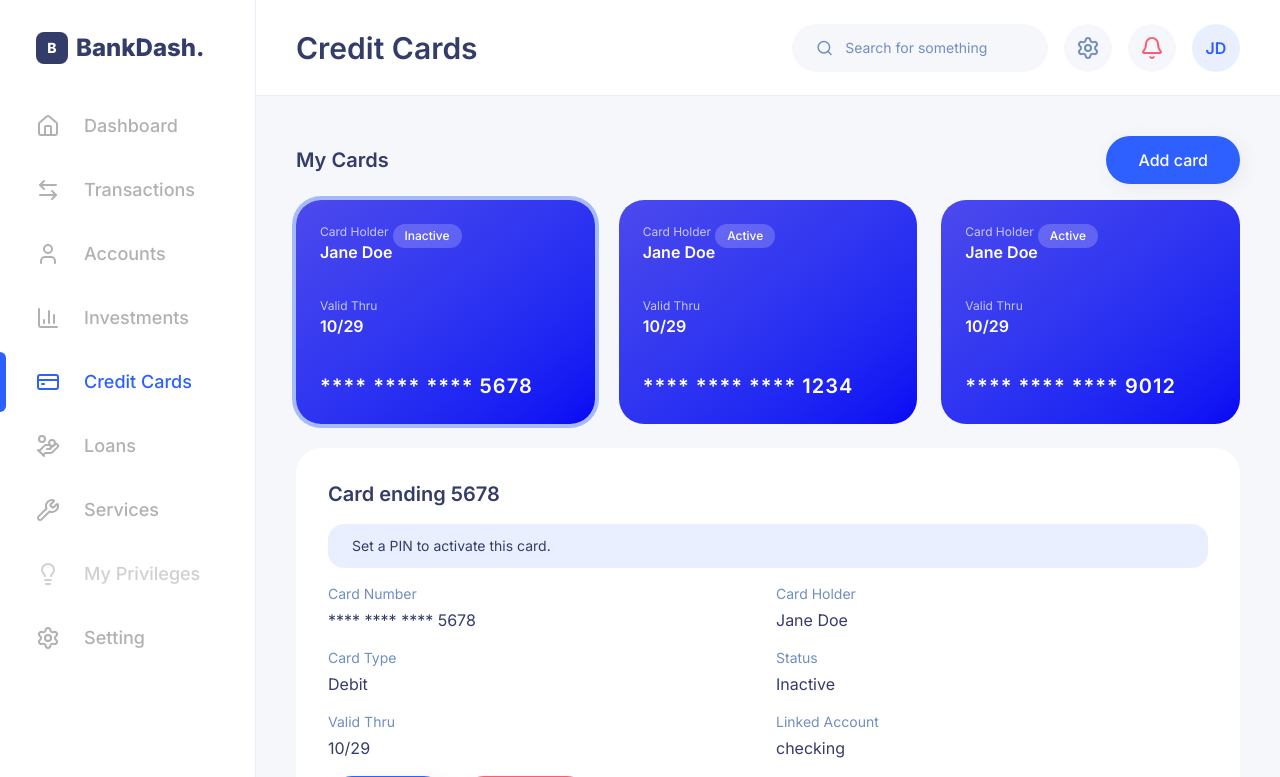
Scenario: Credit Cards › Block card › AC15: Cancel sends no request
Click the button with aria-label "Card ending 1234" at (677, 232), box 619,200 -> 917,424
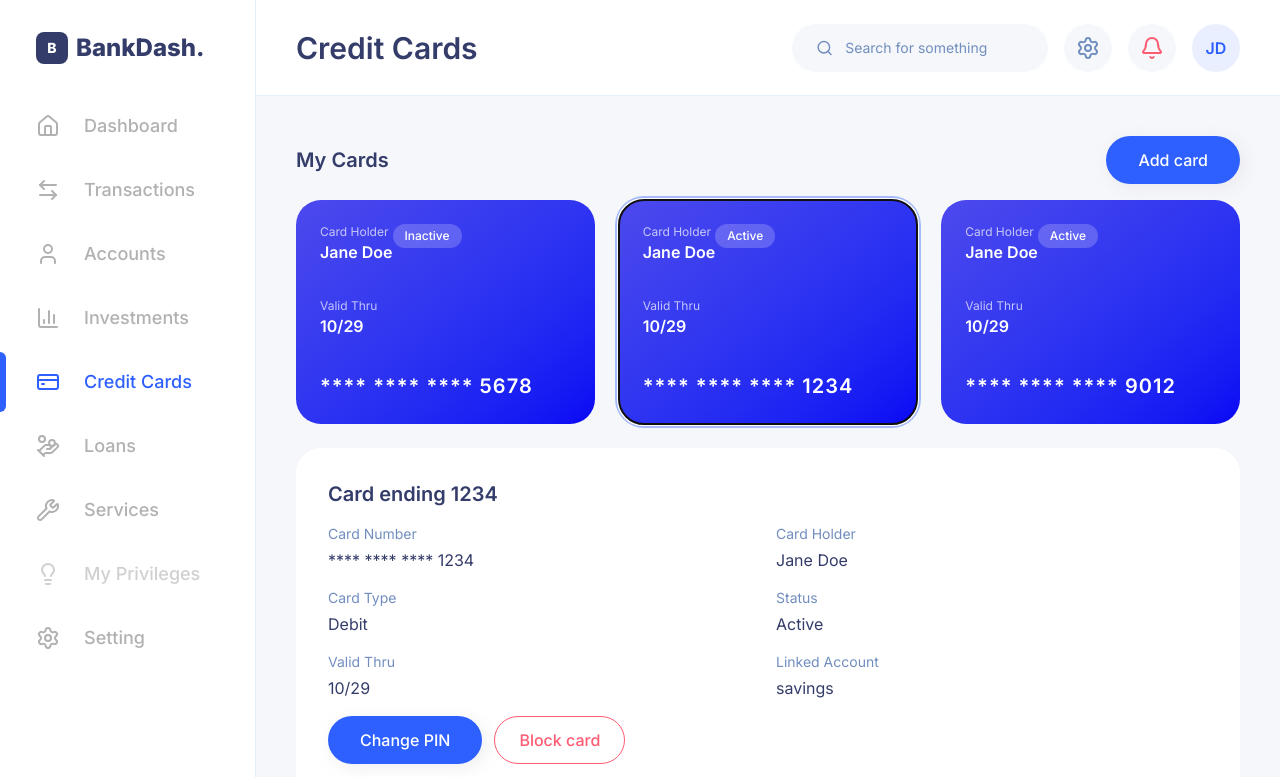
Click the button "Block card" at (560, 740), box 494,716 -> 625,764
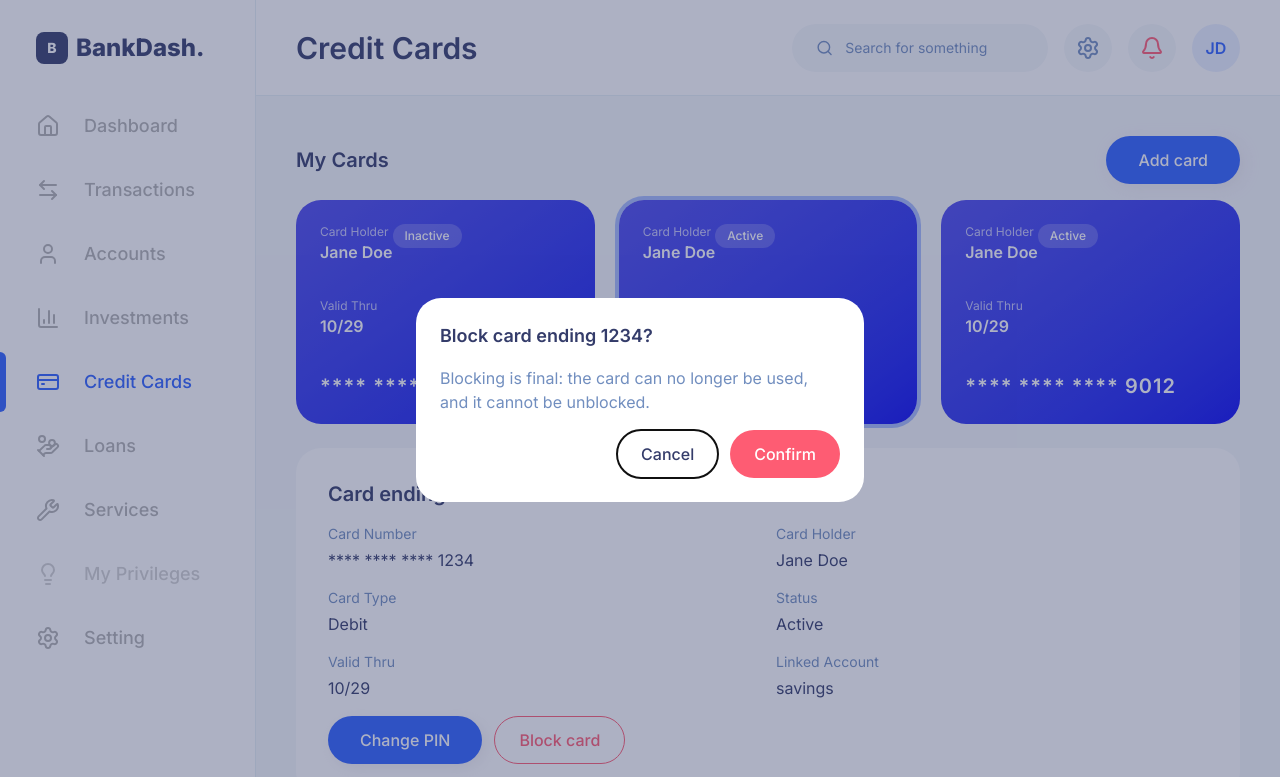
Click the button "Cancel" at (668, 454), box 617,430 -> 718,478
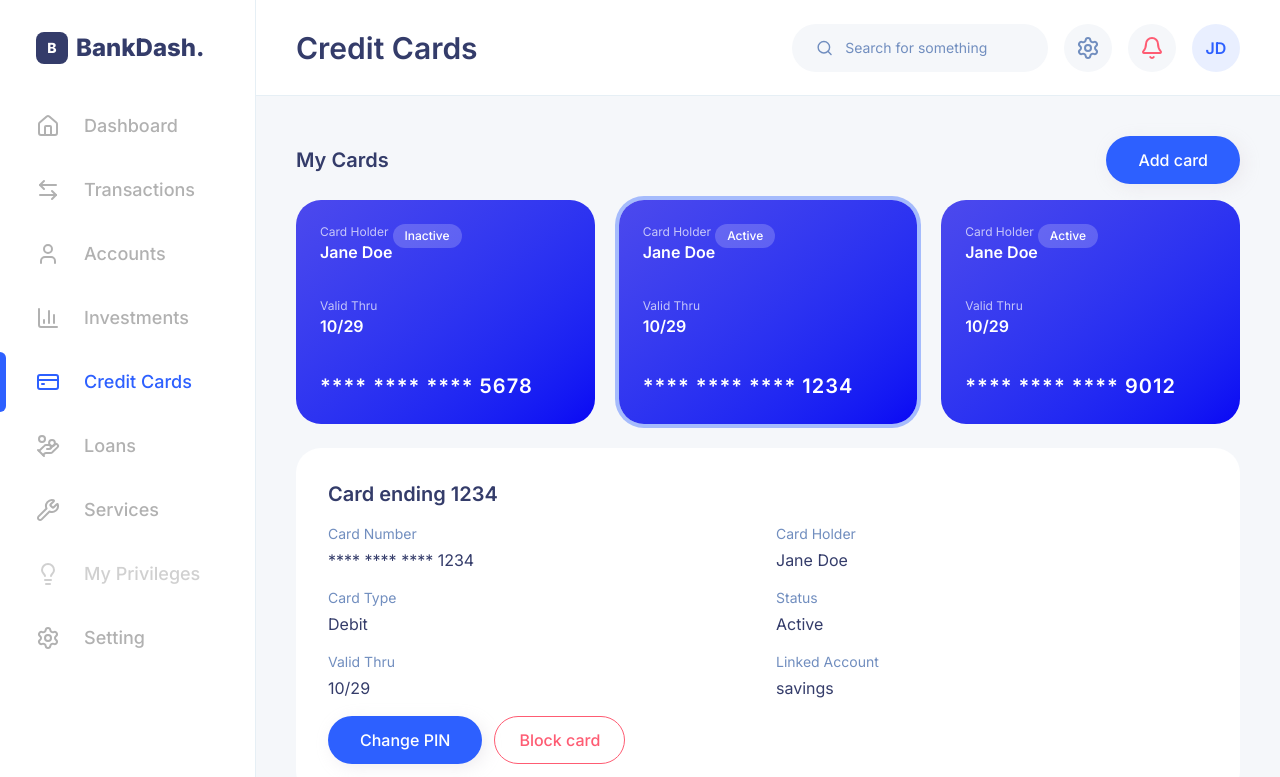
Now the dialog is gone
